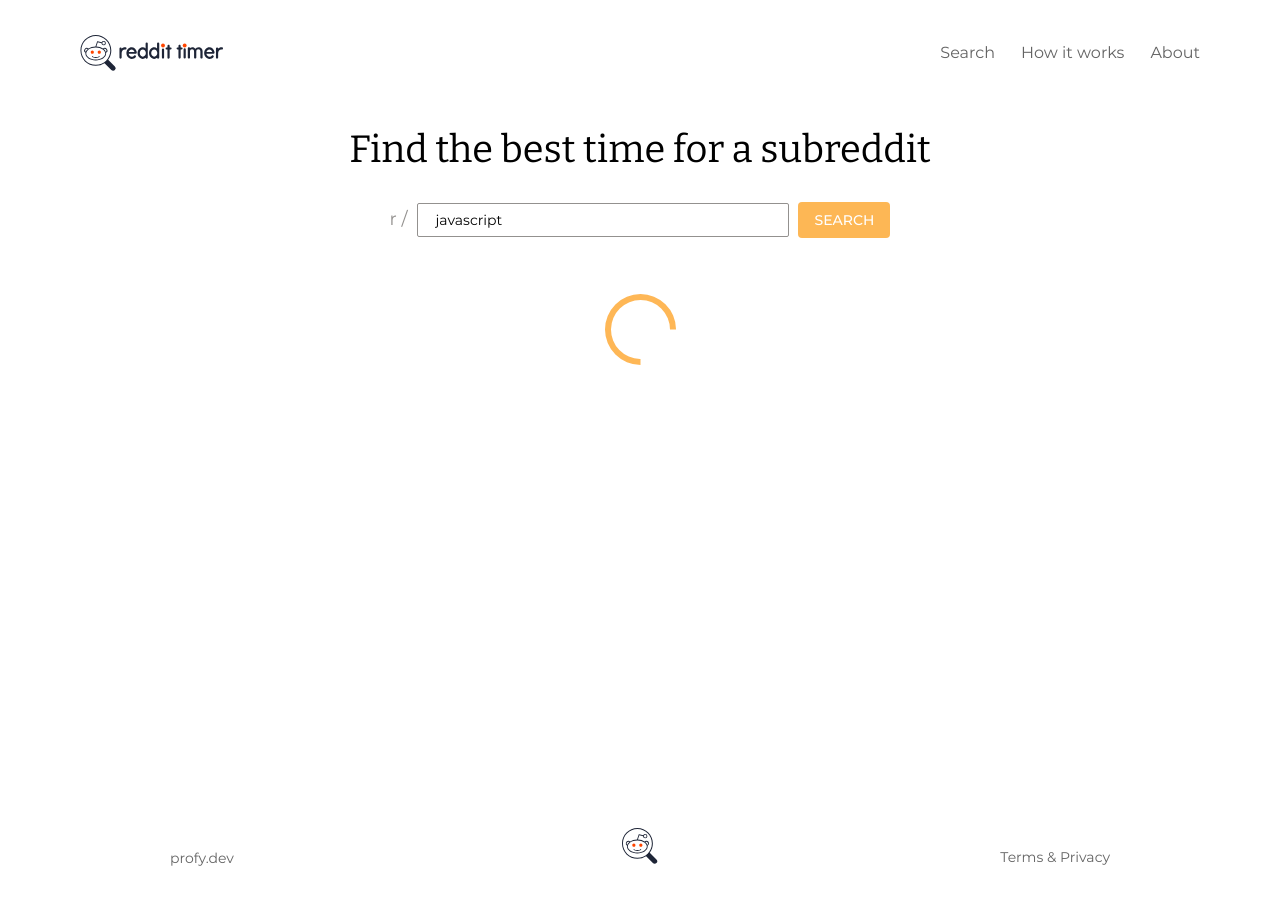
Testing Header Navigation › Navigates to the corresponding "About" section when link is clicked
The width and height of the screenshot is (1280, 900).
Click the link "About" at (1175, 52), box [1150,43,1200,62]
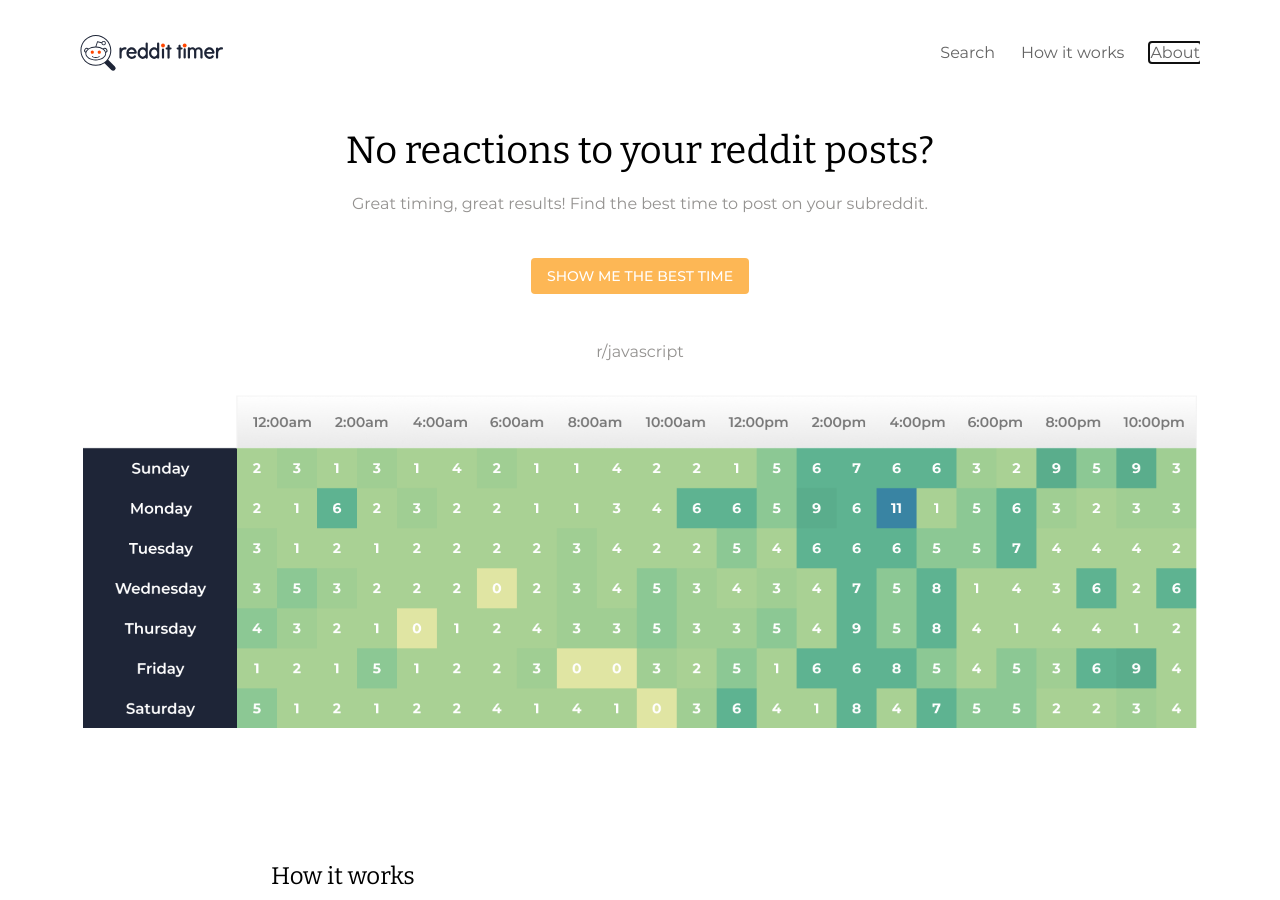
Check: the heading "No reactions to your reddit posts?" is shown, box [346,127,934,173]
